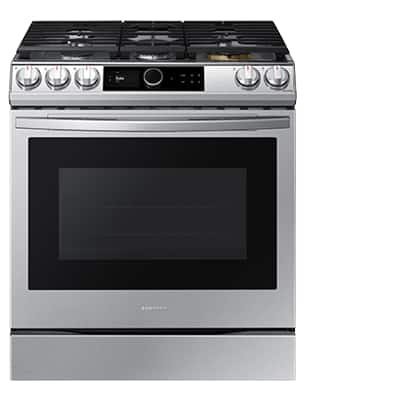stove: (6, 11, 295, 390)
